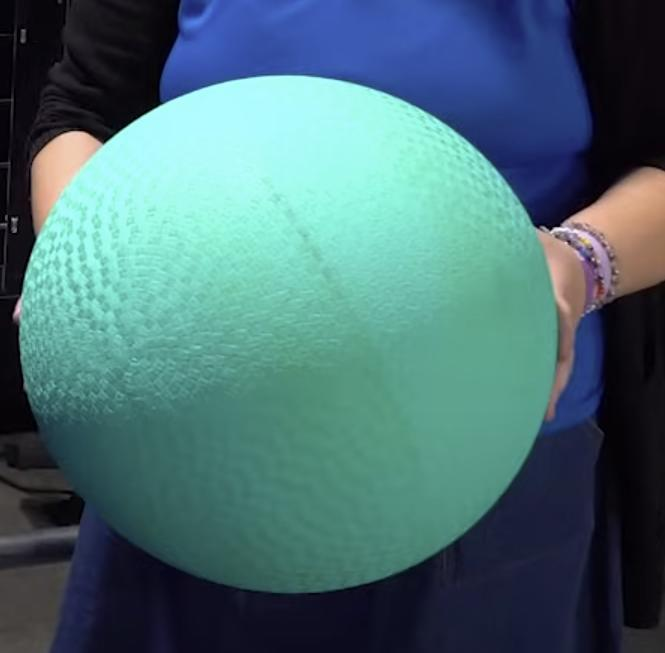algae: (20, 76, 558, 594)
